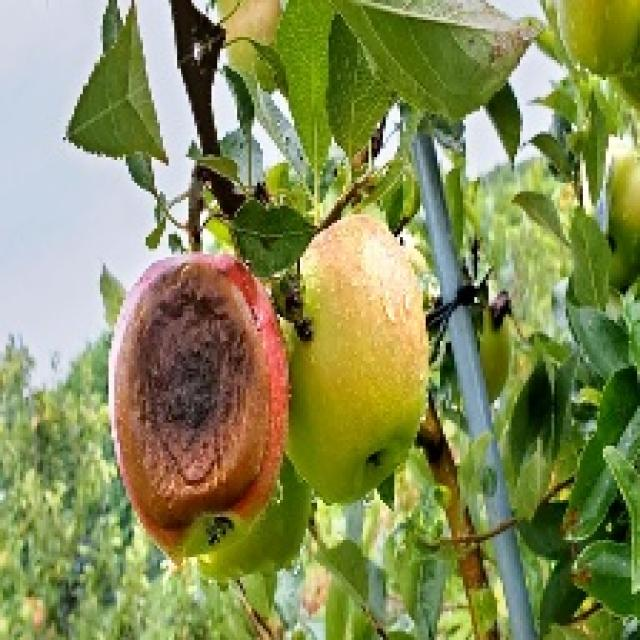rotten_apple: (112, 256, 288, 556)
